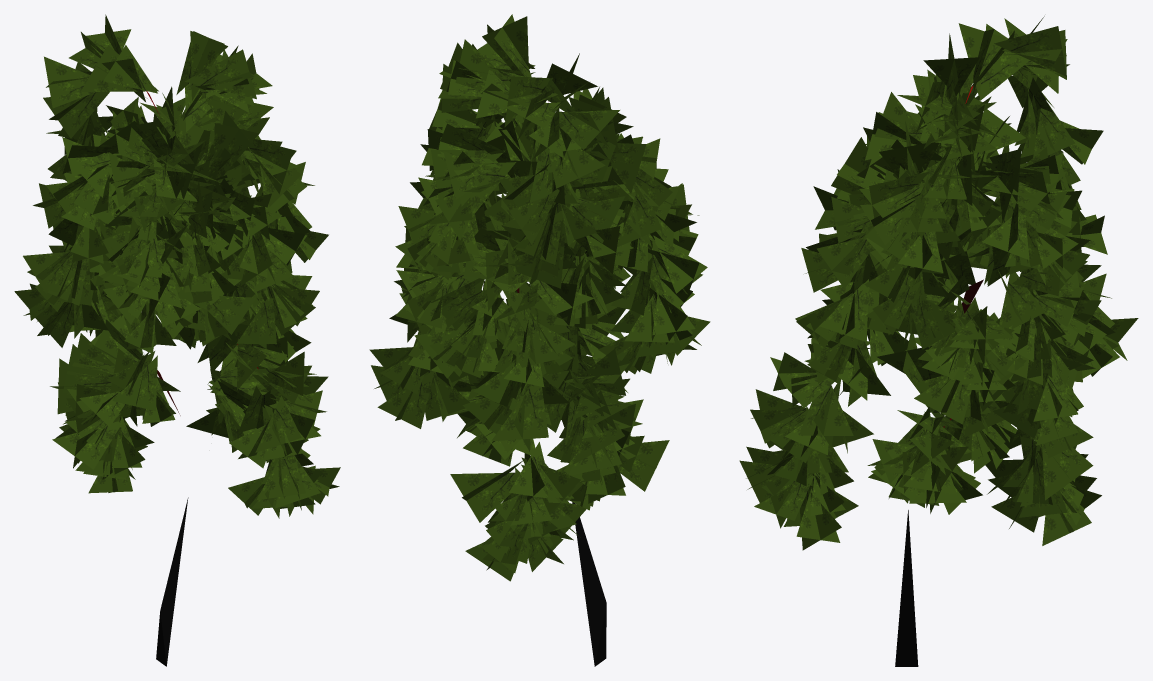
Rendered from birch 2 lod2.FBX.
3 views of the same model, side by side, from view 1: azimuth 30°, elevation 25°; view 2: azimuth 150°, elevation 25°; view 3: azimuth 270°, elevation 25° (orthographic). The views are drawn at different scales.
Visible parts, largest first — view 1: birch2_LOD2; view 2: birch2_LOD2; view 3: birch2_LOD2.
Boxes of the visible parts, x1=… form: birch2_LOD2: x1=14, y1=14, x2=340, y2=666; birch2_LOD2: x1=369, y1=14, x2=710, y2=666; birch2_LOD2: x1=739, y1=16, x2=1138, y2=666.
Bounding box in the file's own units: 52464 × 111652 × 61177.
